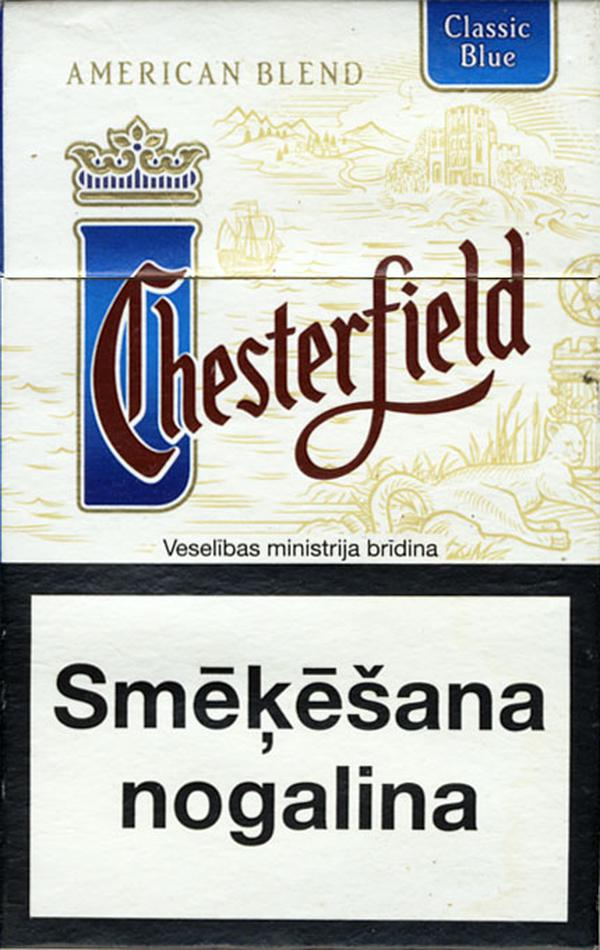chesterfield_blue: (3, 3, 598, 950)
